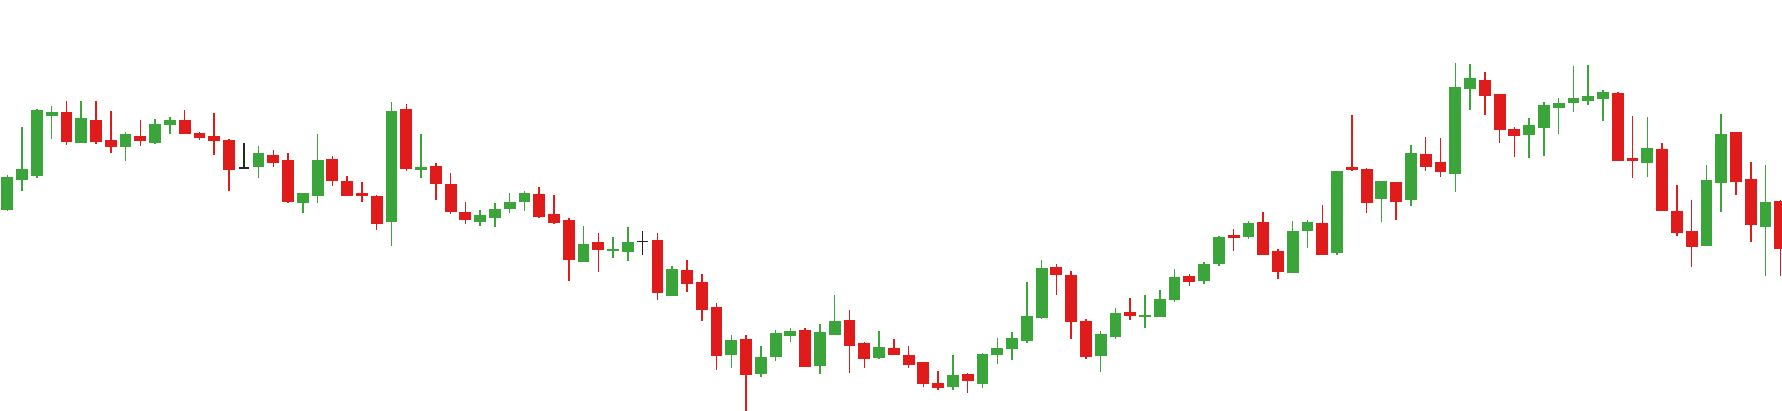sell: (306, 102, 415, 203)
